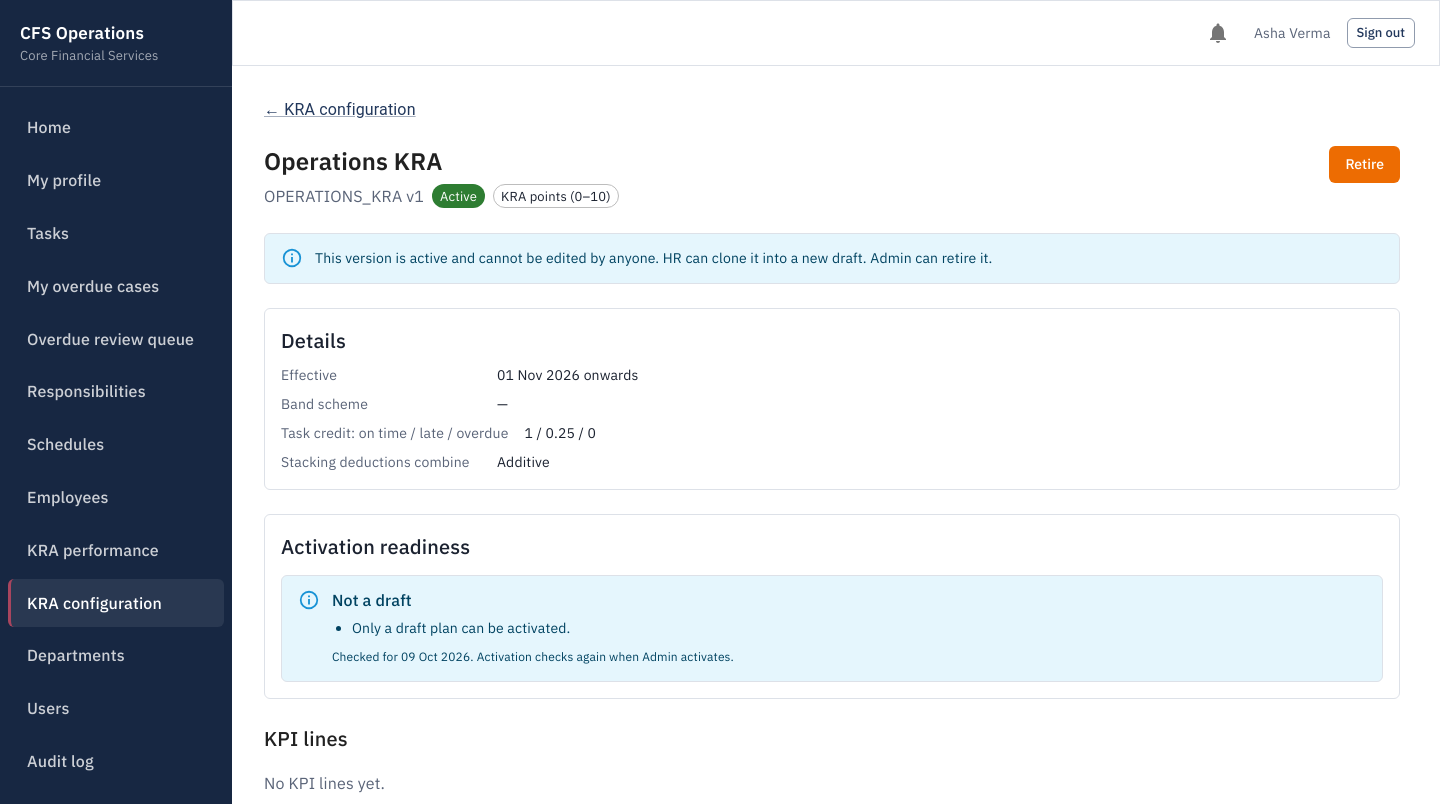
Test: Plan lifecycle: Admin activates and retires (Phase 7.5A) › shows the backend's retirement refusal (for example, overrides still running)
Click the button "Retire" at (1365, 164), box [1329,146,1400,182]
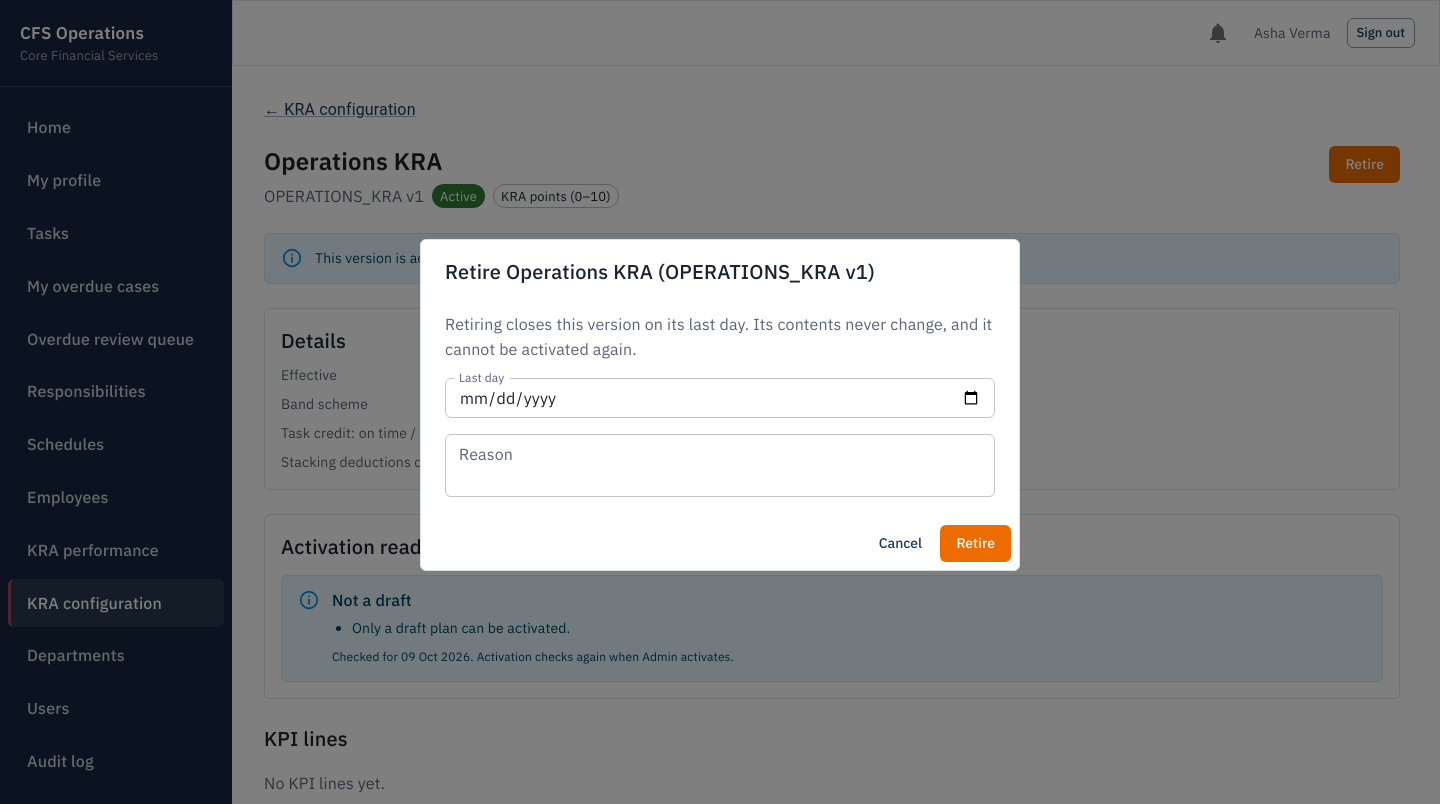
Type "2026-11-30" into the date field labelled "Last day" at (720, 398), box [445,378,995,418]
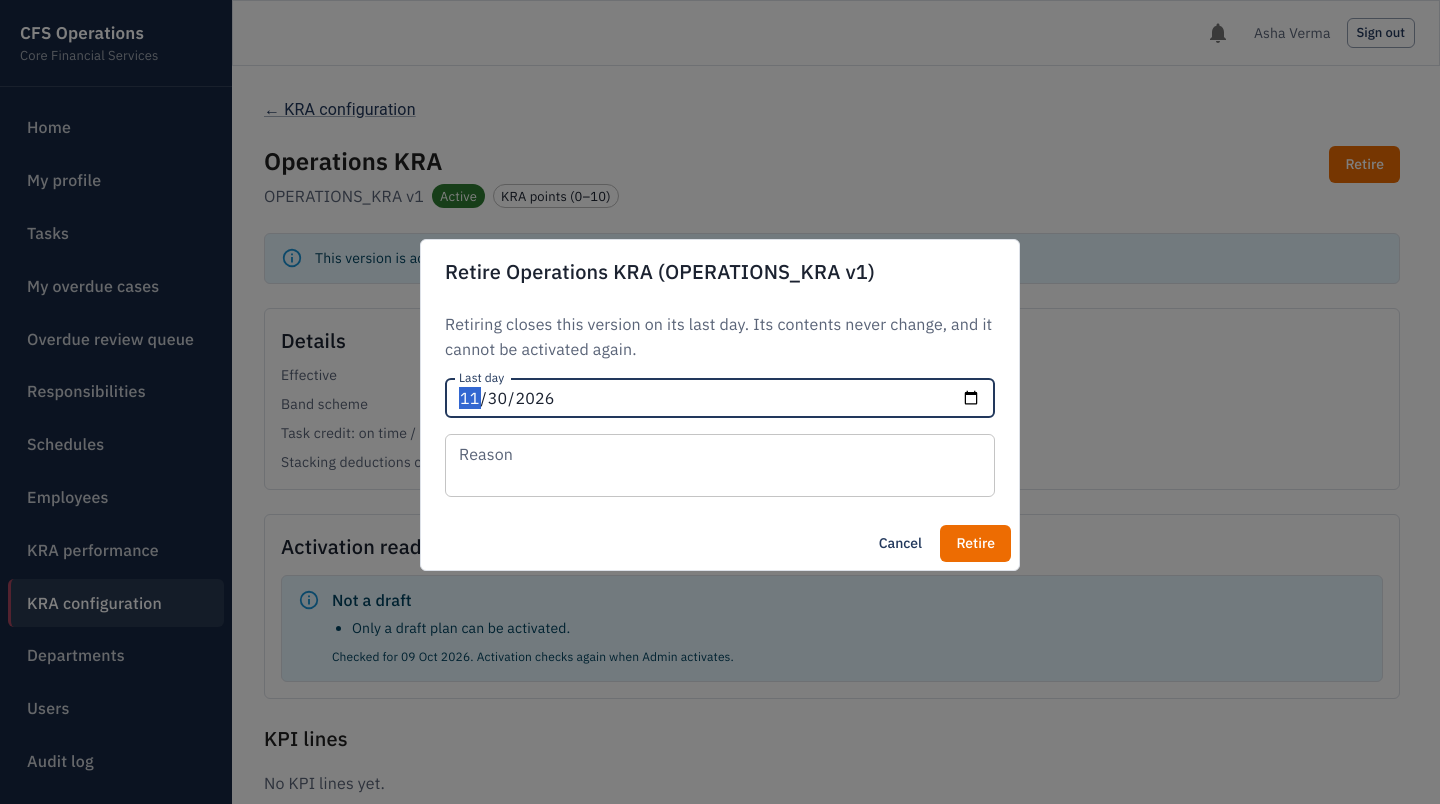
Type "Replaced" into the text box labelled "Reason" at (720, 466), box [459,442,981,488]
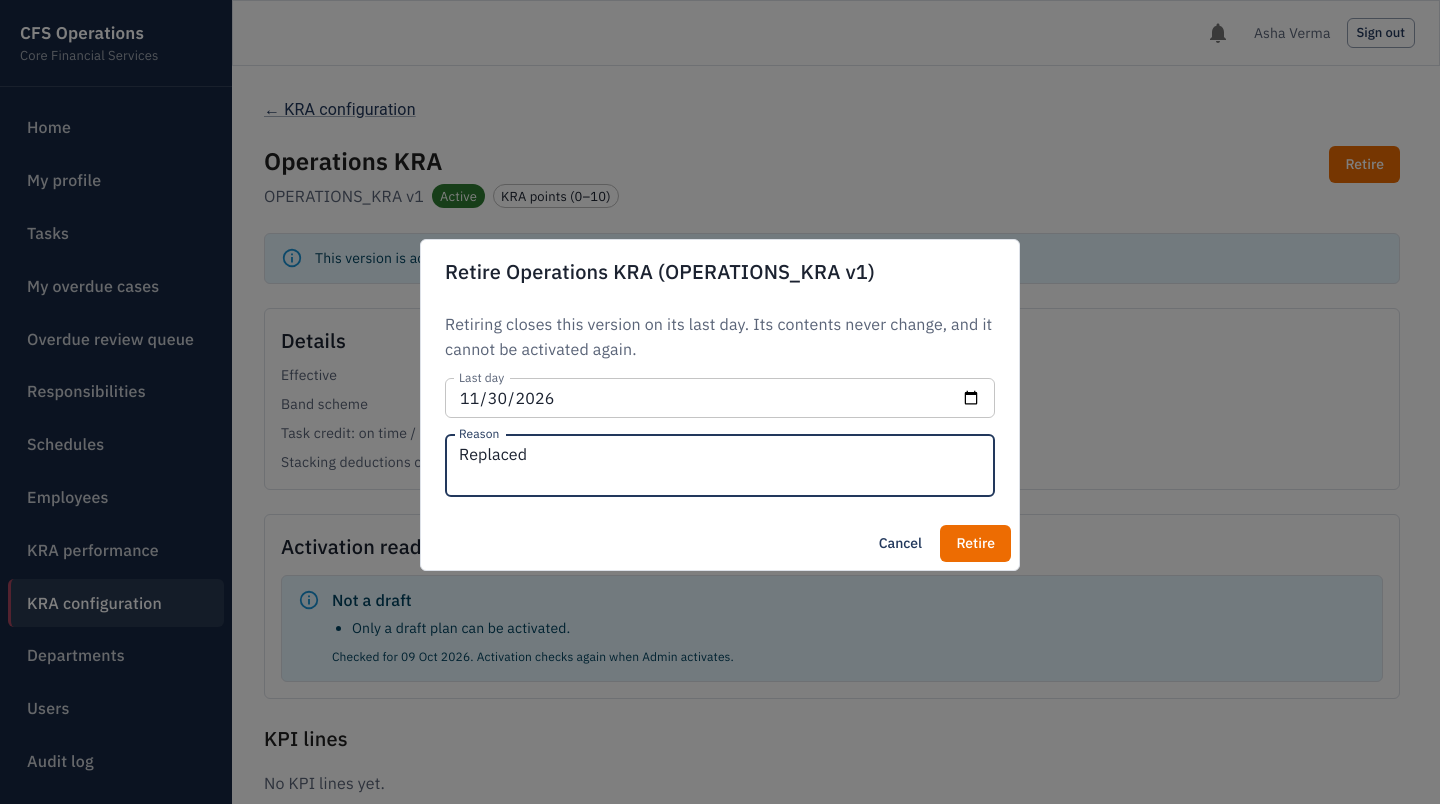
Click the button "Retire" at (976, 543), box [940,525,1011,562]
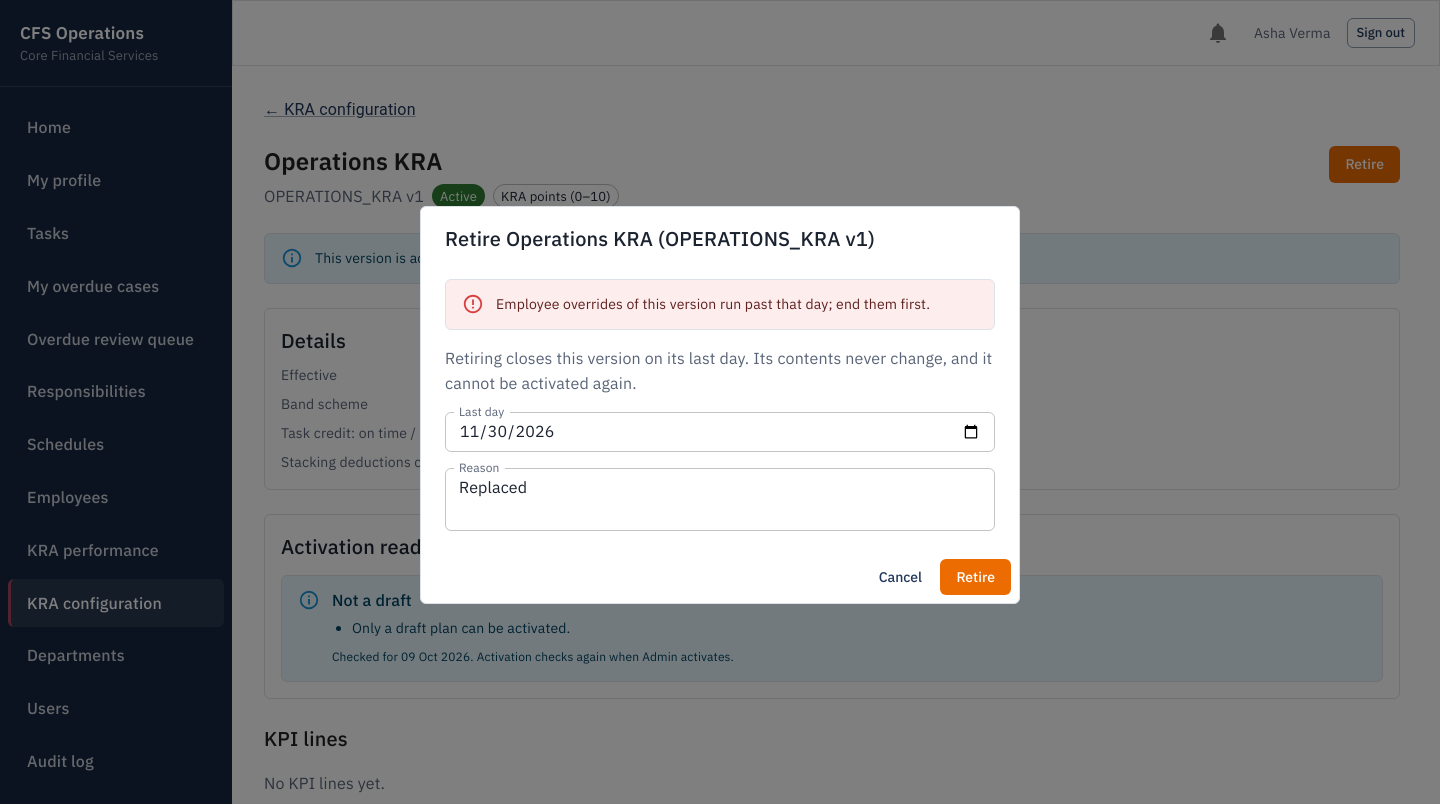
Check: the text "end them first" is shown, box [496,295,930,313]
